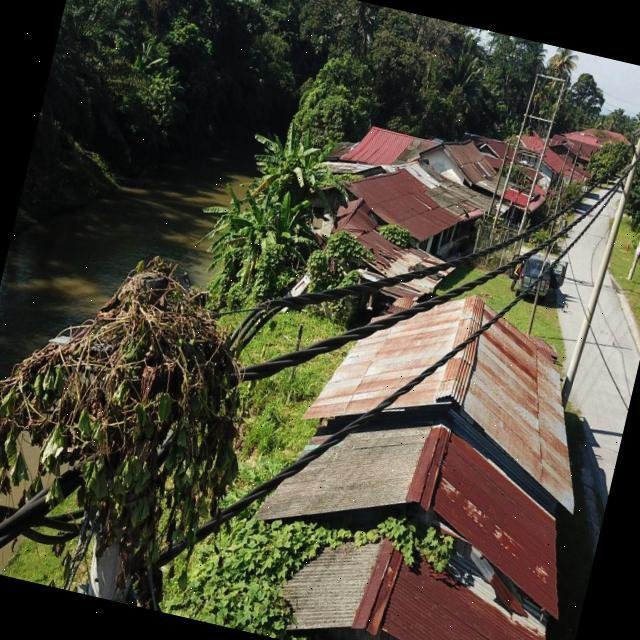critical vegetation: (0, 216, 309, 623)
